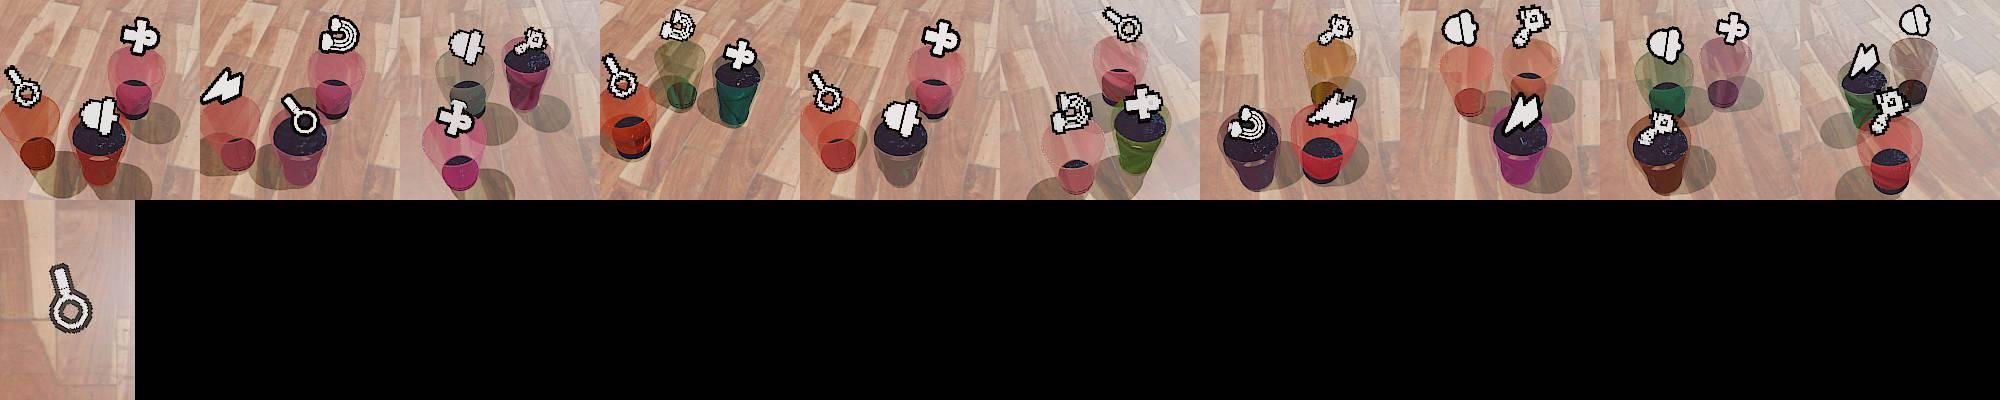icon: (46, 262, 94, 333), (1868, 86, 1913, 136), (1305, 89, 1359, 130), (1049, 90, 1096, 134), (78, 94, 122, 139), (1513, 4, 1554, 50), (1502, 90, 1543, 134), (200, 66, 245, 106), (280, 92, 320, 137), (601, 51, 639, 98), (1636, 108, 1678, 150), (881, 97, 924, 138), (3, 65, 43, 109), (807, 68, 844, 115), (318, 14, 360, 55), (119, 16, 160, 57), (434, 96, 475, 137), (1101, 5, 1143, 45), (1121, 84, 1164, 123), (1226, 103, 1268, 141), (921, 18, 960, 58), (1646, 25, 1684, 64), (1440, 9, 1479, 47), (447, 28, 484, 67), (659, 8, 697, 43), (722, 37, 759, 72), (1316, 13, 1354, 46), (1848, 42, 1881, 80), (1715, 11, 1748, 46), (1899, 4, 1931, 37), (520, 26, 549, 52)
